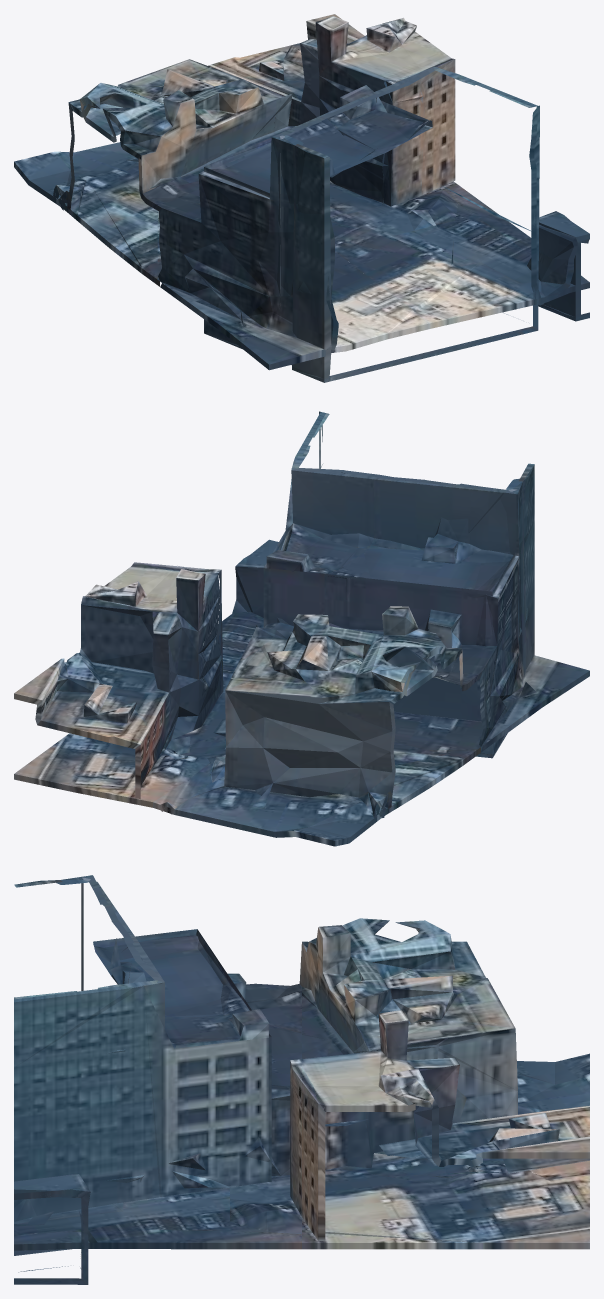
Rendered from chunk_2_2.glb.
The picture shows the model from 3 angles, top to bottom: view 1: azimuth 30°, elevation 25°; view 2: azimuth 150°, elevation 25°; view 3: azimuth 270°, elevation 25°; orthographic projection. The views are drawn at different scales.
Parts seen in each view (by area): view 1: hero-chunk; view 2: hero-chunk; view 3: hero-chunk.
Boxes of the visible parts, x1,y1,x2,y2 form: hero-chunk: (14,14,589,382); hero-chunk: (14,411,589,846); hero-chunk: (14,875,589,1284).
Bounding box in the file's own units: 55.42 × 37.19 × 76.32.
Materials: 1 (1 with a texture image).
